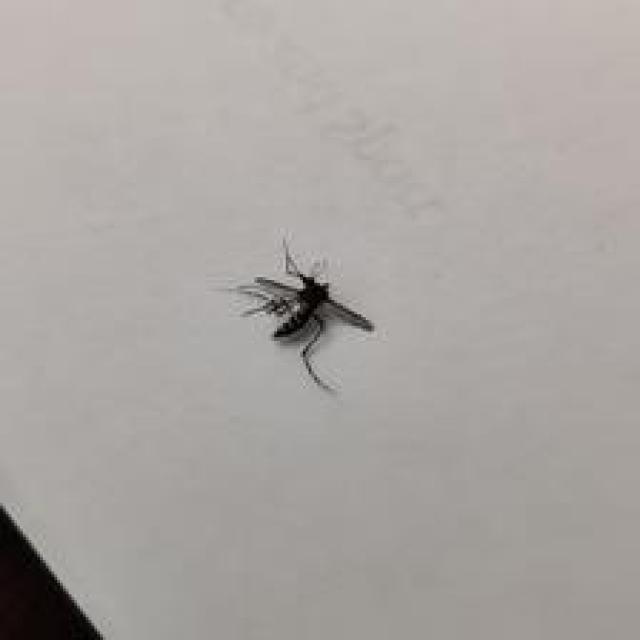Aedes albopictus: (227, 236, 376, 393)
